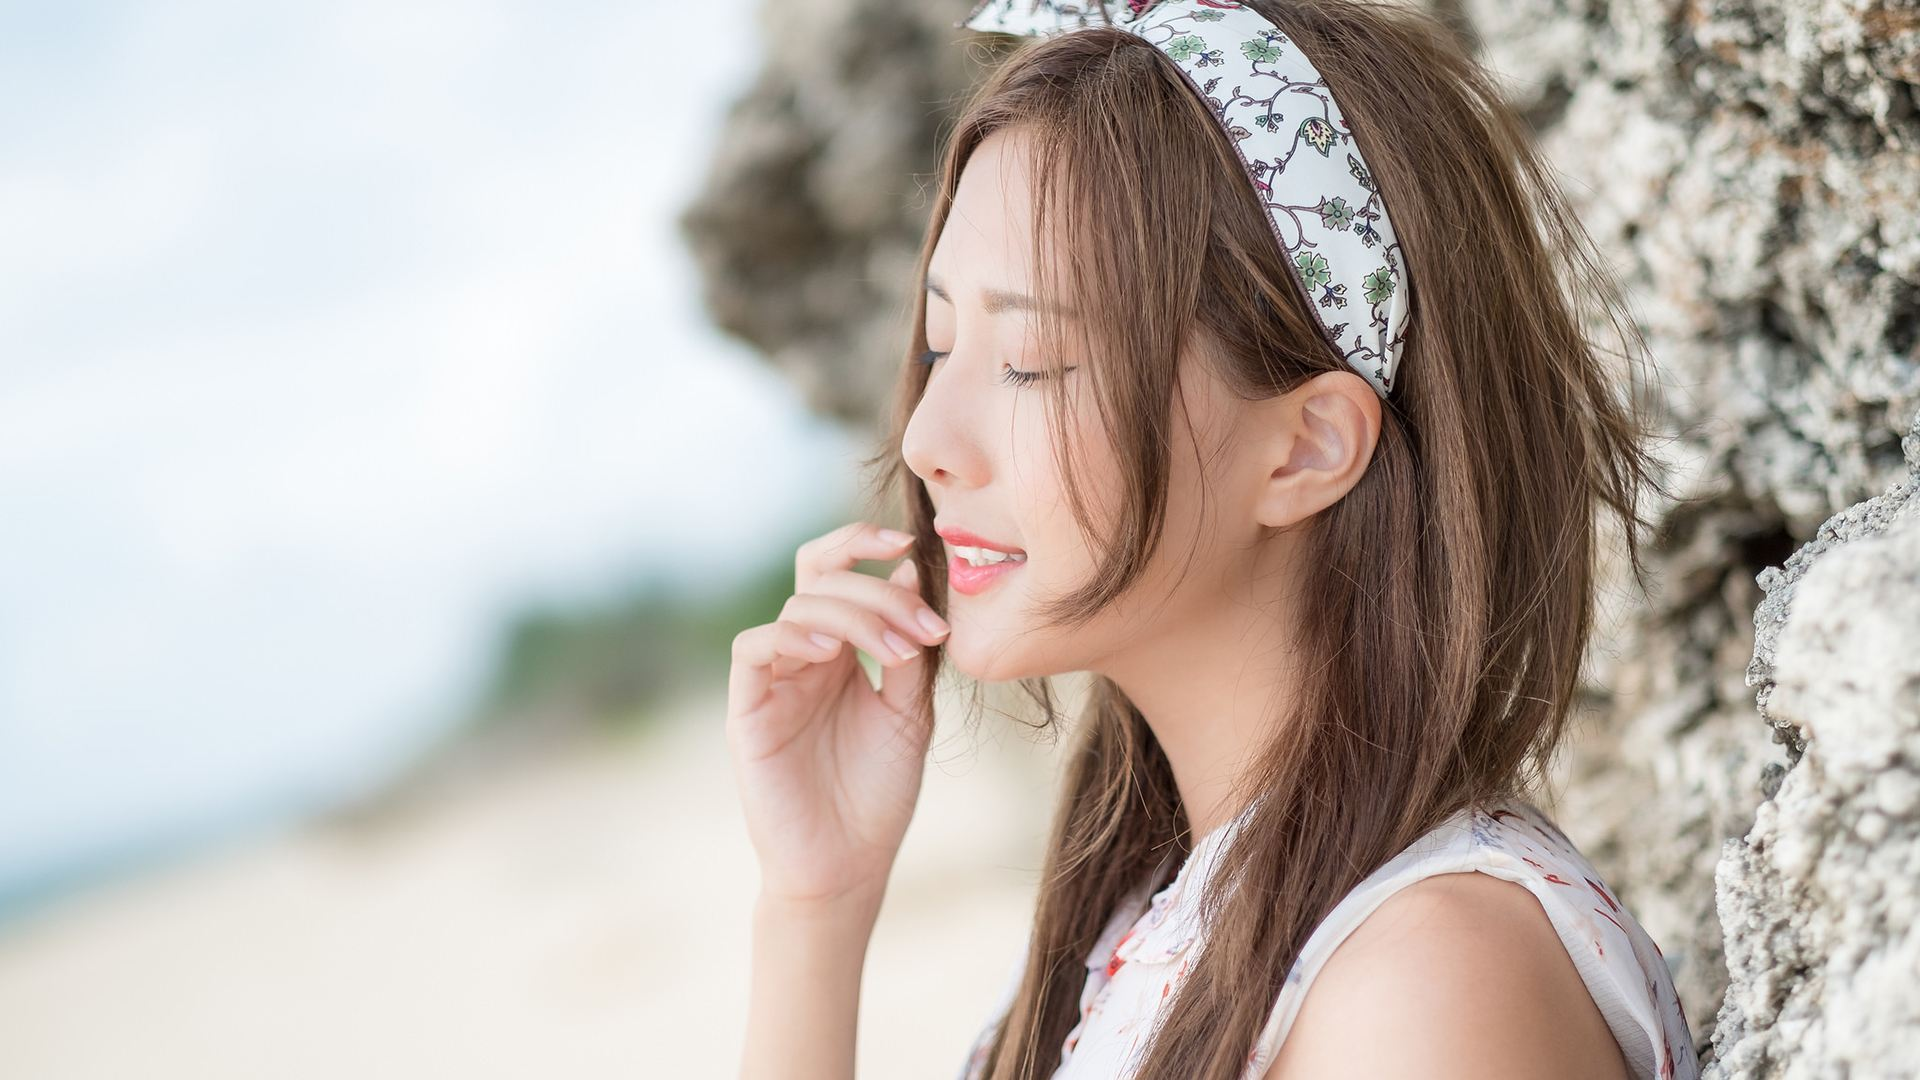person: (652, 66, 1659, 1078)
